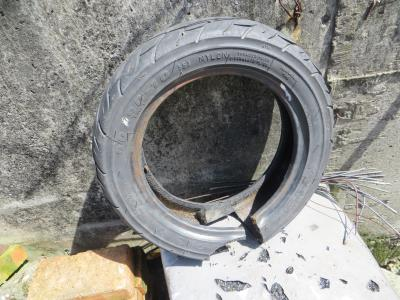tire: (90, 15, 337, 268)
